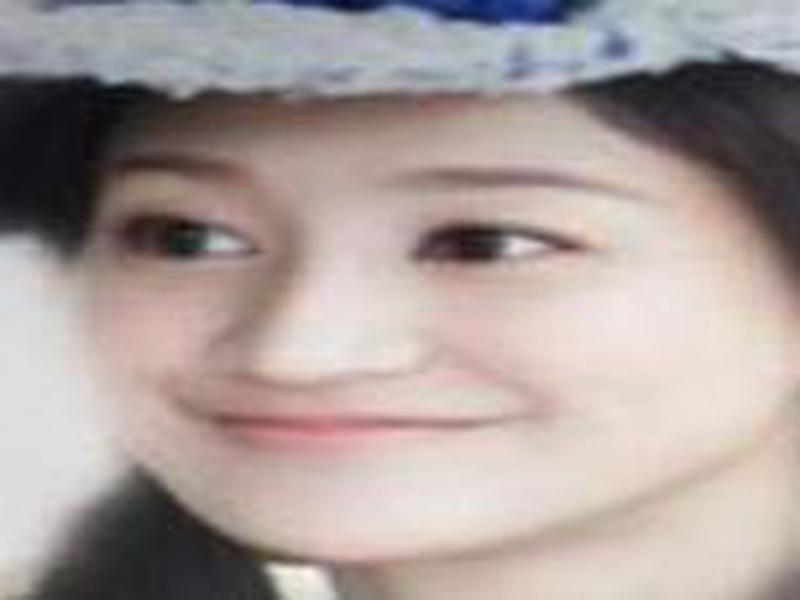without_mask: (79, 108, 726, 563)
